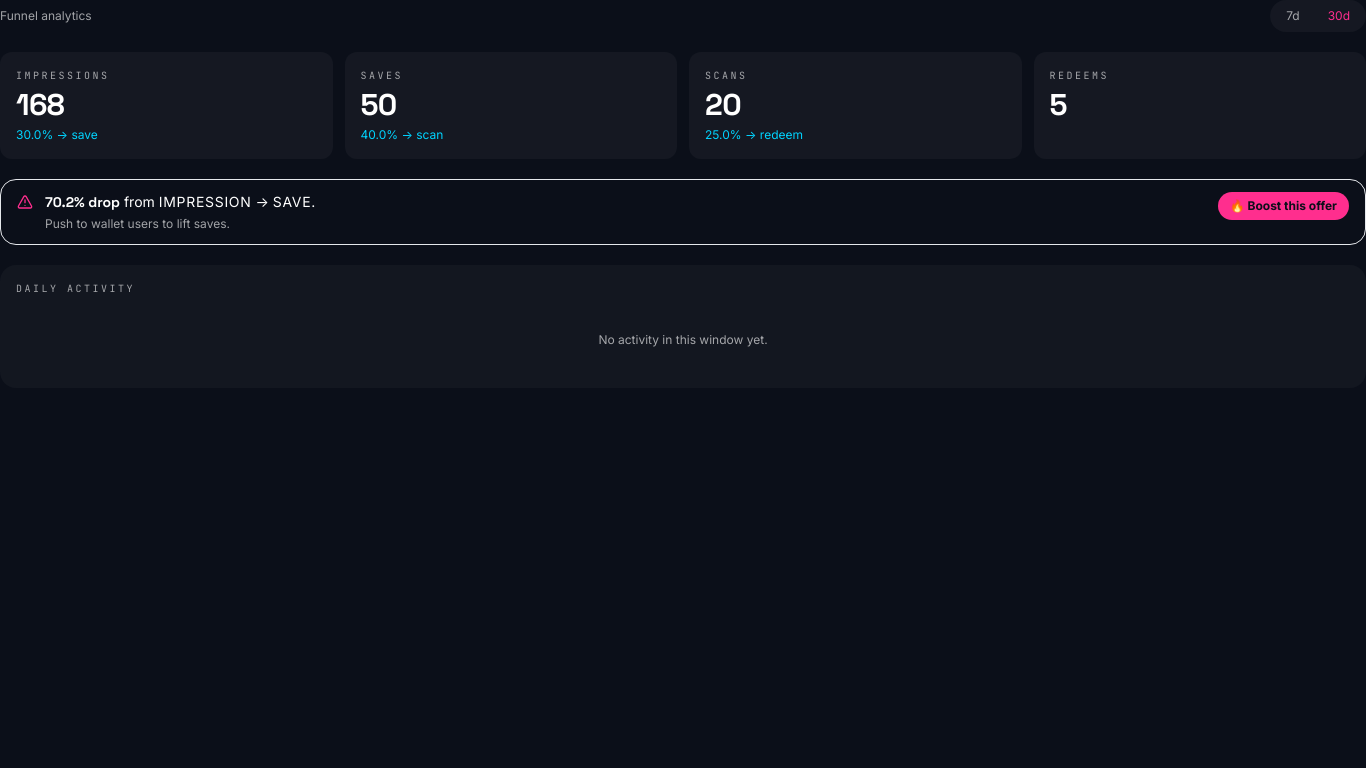
Test: Phase 17c Boost CTA renders when offer is boost_eligible
The width and height of the screenshot is (1366, 768).
Step 1. Click the button with test id "analytics-boost-cta" → (1283, 206), box [1218,192,1349,220]
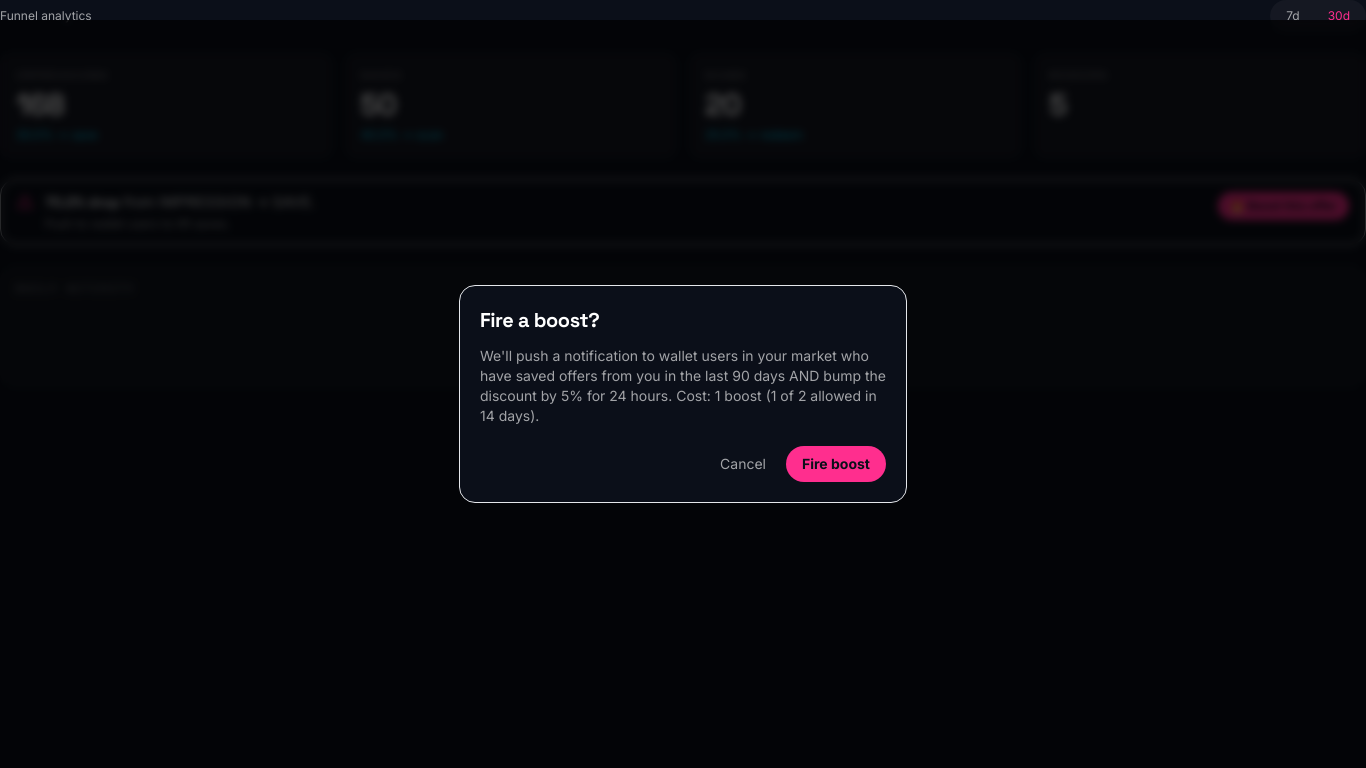
expect the element with test id "analytics-boost-confirm" is shown: met, box [459,285,907,503]
expect the element with test id "analytics-boost-confirm" shows "Fire a boost?": met, box [480,307,599,333]
